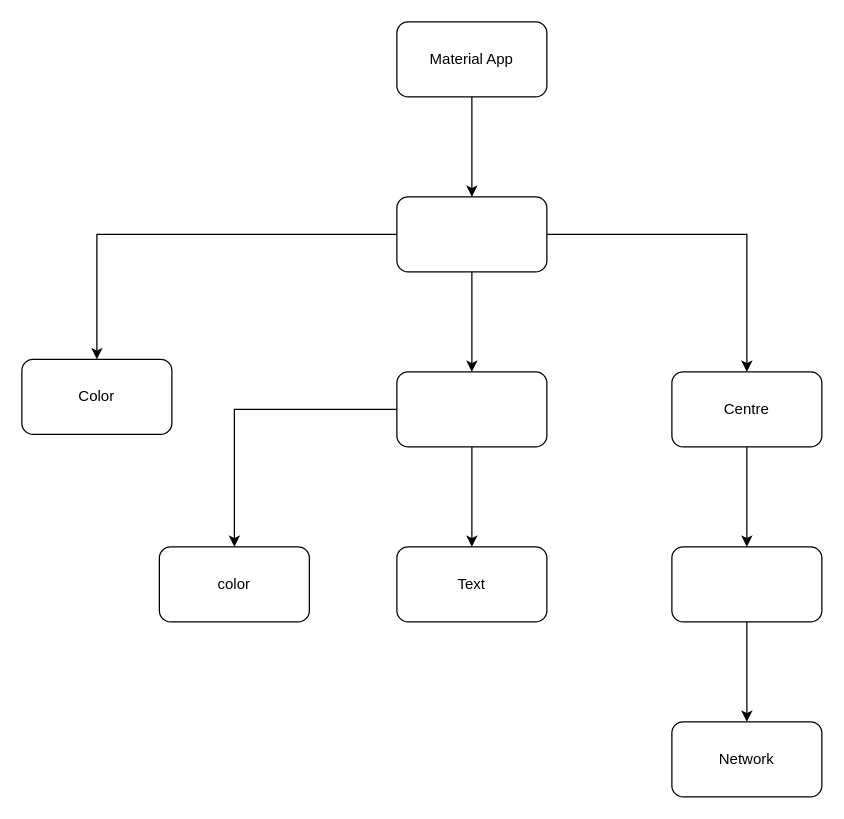
Image size: 844x819. Some labels were removed from this diagram. Here are the shapes that lost their labels. From the top down, the box of each, then its label:
(396, 196, 547, 272): Scaffold
(396, 371, 547, 447): AppBar
(671, 546, 822, 622): Image
